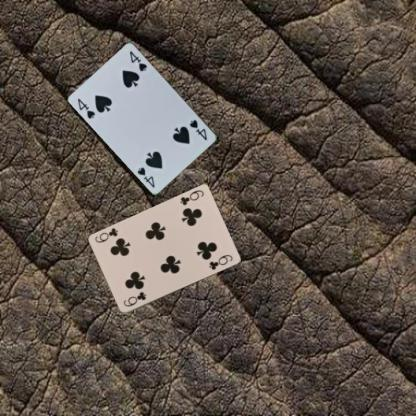4s: (187, 117, 209, 142), (75, 96, 97, 120)
6c: (177, 188, 205, 207), (121, 289, 147, 308)
